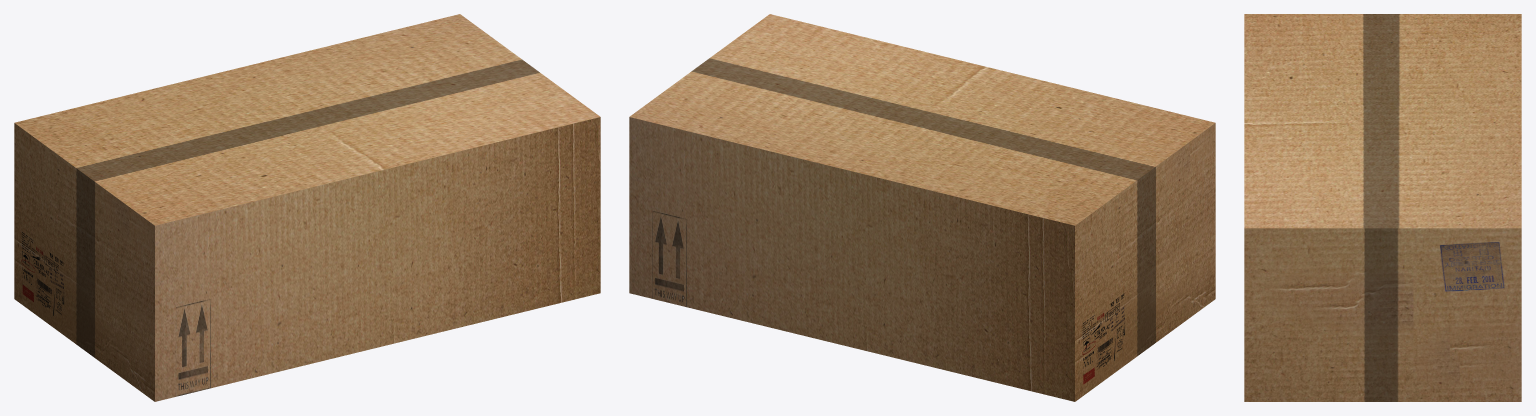
Rendered from CardboardBox2.fbx.
3 views of the same model, side by side, from view 1: azimuth 30°, elevation 25°; view 2: azimuth 150°, elevation 25°; view 3: azimuth 270°, elevation 25° (orthographic).
Parts seen in each view (by area): view 1: pCube2; view 2: pCube2; view 3: pCube2.
Part boxes in pixels (x1,y1,x2,y2): pCube2: (14,14,600,401); pCube2: (629,14,1215,401); pCube2: (1244,14,1521,401).
Size of the model in its own units: 40.6 by 15.34 by 22.19.
